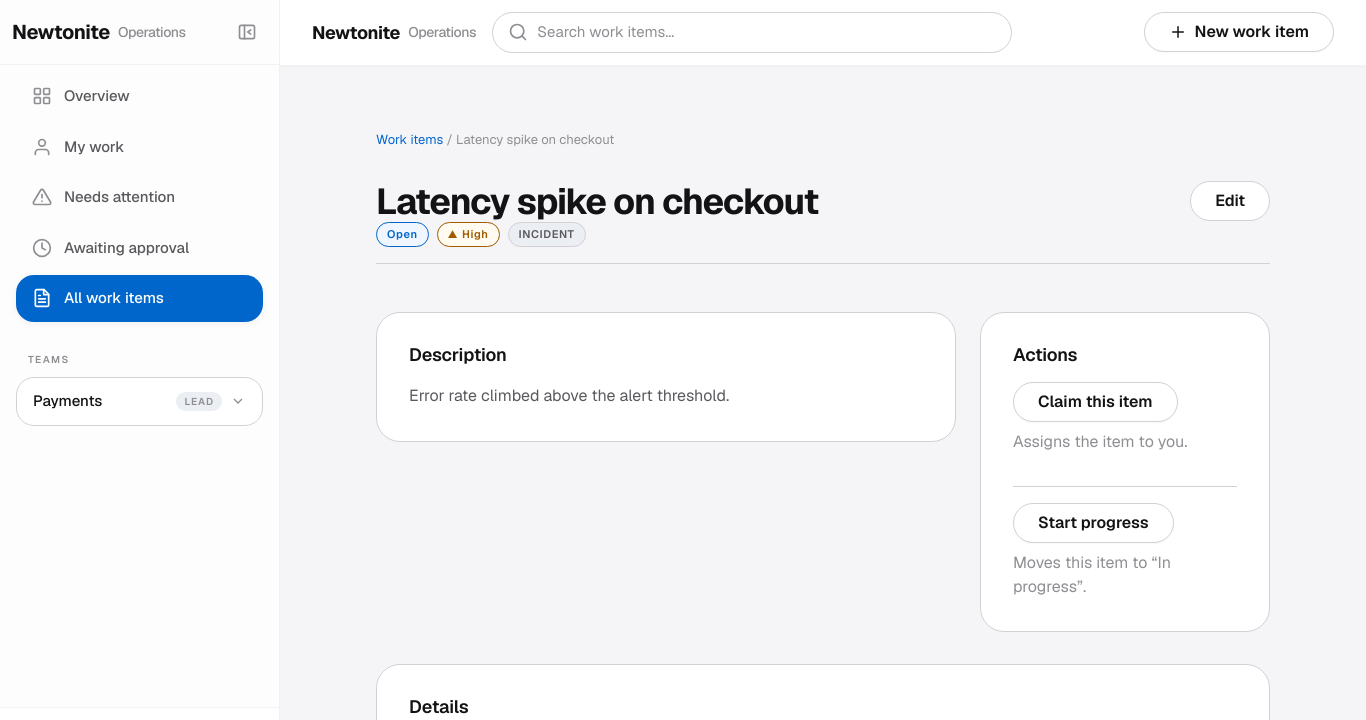
it: ItemDetailPage › treats a lost claim race as a recoverable conflict
Check: the heading "Latency spike on checkout" is shown, box [376,181,818,222]
Click the button "Claim this item" at (1095, 402), box [1013,382,1178,422]
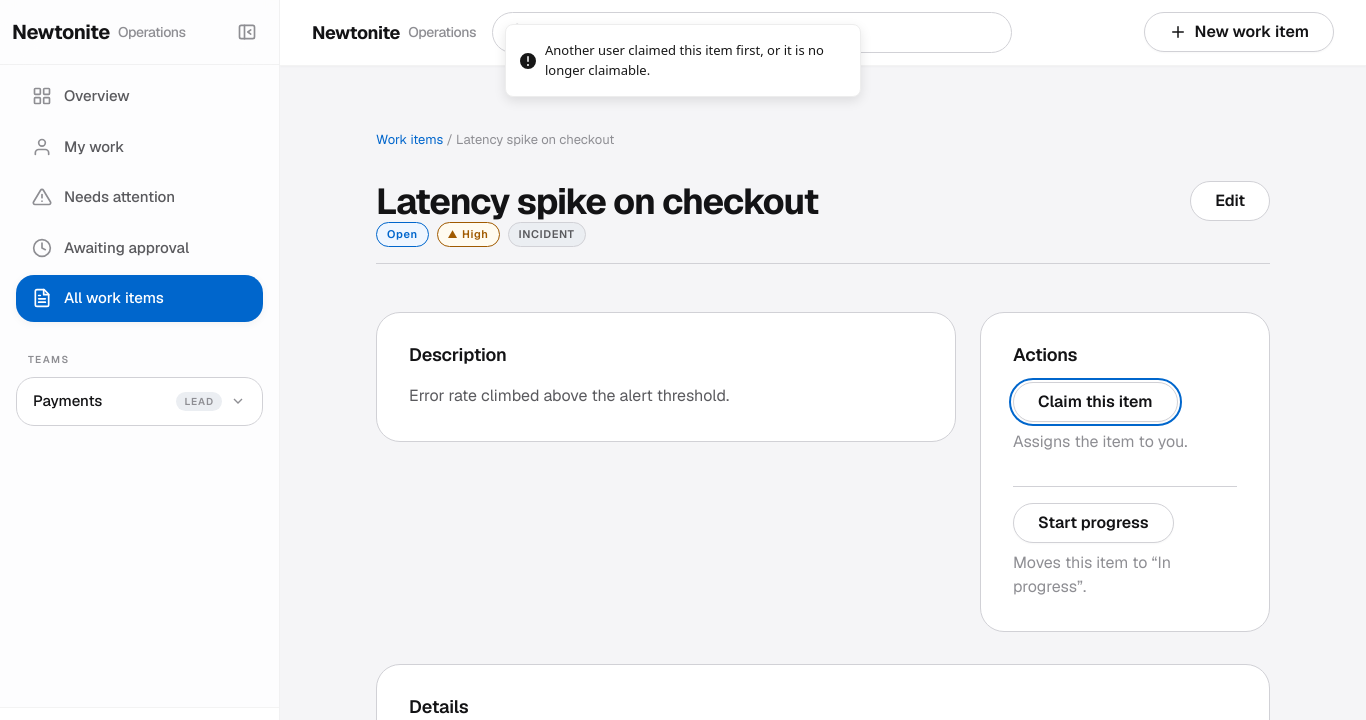
Check: the text "claimed this item first" is shown, box [545,41,824,78]
